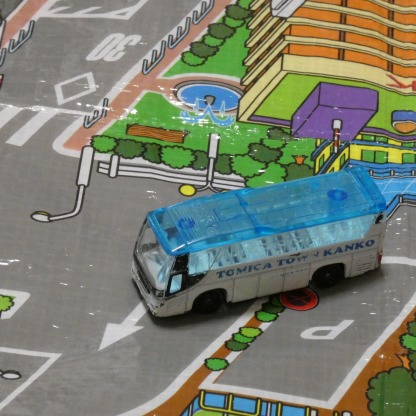car: (133, 176, 390, 319)
